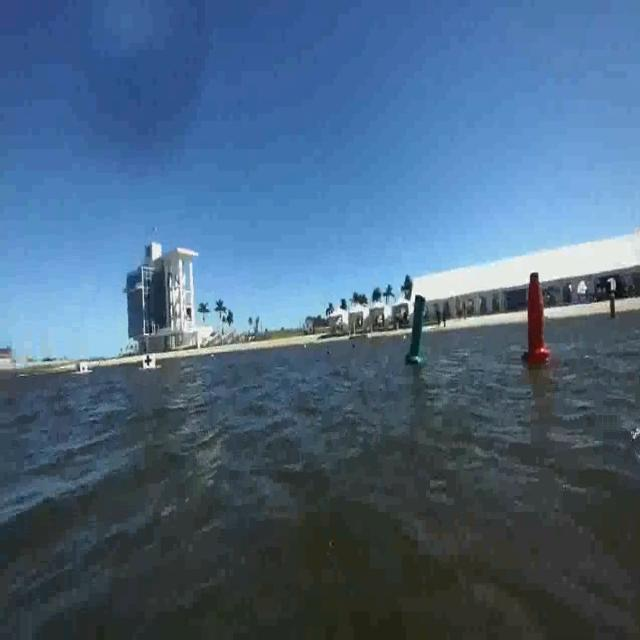green-column-buoy: (406, 292, 428, 366)
red-column-buoy: (522, 268, 552, 364)
